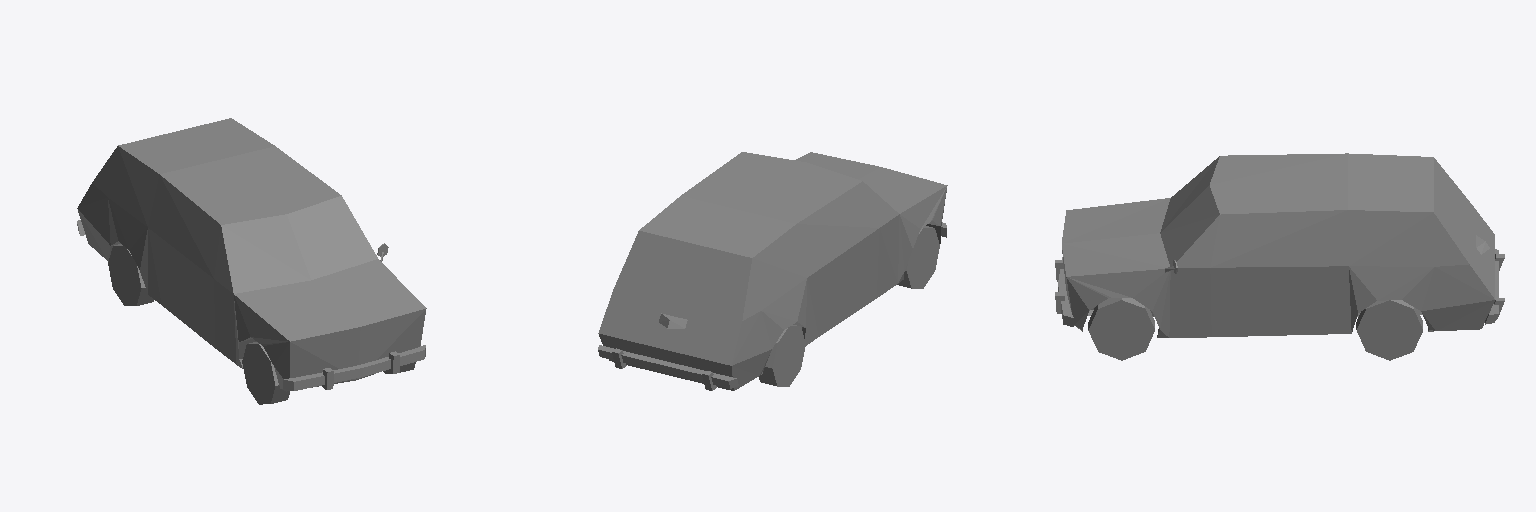
The model's file is Car.obj.
The picture shows the model from 3 angles: view 1: azimuth 30°, elevation 25°; view 2: azimuth 150°, elevation 25°; view 3: azimuth 270°, elevation 25°; orthographic projection.
Visible parts, largest first — view 1: Car; view 2: Car; view 3: Car.
Boxes of the visible parts, x1,y1,x2,y2 form: Car: [77, 118, 426, 404]; Car: [598, 152, 947, 390]; Car: [1055, 153, 1504, 360].
Bounding box in the file's own units: 2.56 × 2.17 × 6.15.